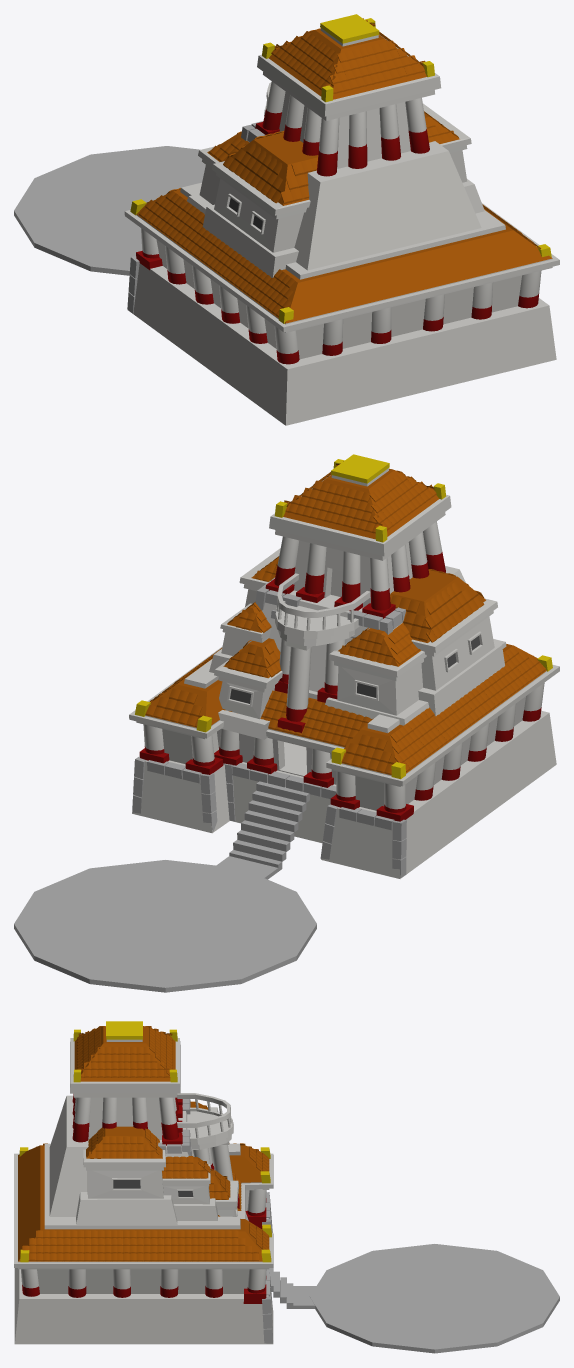
Rendered from SM_Kelloc_HQ 1.fbx.
The picture shows the model from 3 angles, top to bottom: view 1: azimuth 30°, elevation 25°; view 2: azimuth 150°, elevation 25°; view 3: azimuth 270°, elevation 25°; orthographic projection. The views are drawn at different scales.
Parts seen in each view (by area): view 1: pCube2, pCube1, pCylinder44, Object (×3), pCube4, pCylinder41, group13, pCube43, pCylinder51, pCylinder50, pCube40, pCylinder47 (+3 smaller); view 2: pCylinder44, pCube2, Object (×9), pCube1, pCube4, pCylinder41, pCube40, pCube41, group13, pCylinder45, pCylinder42, pCube11 (+7 smaller); view 3: pCube2, pCylinder44, Object (×6), pCube1, pCube43, pCylinder41, pCube42, pCube11, pCylinder54, pCylinder53, pCylinder42, pCube41 (+5 smaller).
Part boxes in pixels (left/top/right/bottom): pCube2: left=124, top=183, right=559, bottom=425; pCube1: left=246, top=14, right=481, bottom=270; pCylinder44: left=14, top=146, right=205, bottom=275; Object (×3): left=139, top=31, right=425, bottom=317; pCube4: left=202, top=132, right=318, bottom=277; pCylinder41: left=262, top=81, right=429, bottom=176; group13: left=223, top=131, right=317, bottom=203; pCube43: left=423, top=103, right=484, bottom=213; pCylinder51: left=423, top=282, right=493, bottom=331; pCylinder50: left=322, top=307, right=391, bottom=355; pCube40: left=187, top=131, right=249, bottom=214; pCylinder47: left=165, top=246, right=213, bottom=304; pCylinder44: left=14, top=860, right=316, bottom=992; pCube2: left=129, top=639, right=559, bottom=878; Object (×9): left=145, top=471, right=545, bottom=774; pCube1: left=262, top=454, right=465, bottom=691; pCube4: left=390, top=570, right=504, bottom=716; pCylinder41: left=274, top=521, right=445, bottom=610; pCube40: left=325, top=623, right=429, bottom=725; pCube41: left=214, top=638, right=282, bottom=739; group13: left=390, top=569, right=484, bottom=642; pCylinder45: left=143, top=724, right=331, bottom=779; pCylinder42: left=279, top=638, right=345, bottom=721; pCube11: left=275, top=601, right=359, bottom=645; pCube2: left=14, top=1143, right=273, bottom=1344; pCylinder44: left=310, top=1244, right=559, bottom=1353; Object (×6): left=22, top=1026, right=258, bottom=1261; pCube1: left=49, top=1021, right=194, bottom=1216; pCube43: left=76, top=1126, right=177, bottom=1224; pCylinder41: left=72, top=1094, right=178, bottom=1142; pCube42: left=162, top=1157, right=218, bottom=1220; pCube11: left=187, top=1107, right=233, bottom=1149; pCylinder54: left=160, top=1269, right=222, bottom=1297; pCylinder53: left=68, top=1269, right=130, bottom=1297; pCylinder42: left=193, top=1145, right=233, bottom=1180; pCube41: left=210, top=1170, right=248, bottom=1220.
Bounding box in the file's own units: 3501 × 3983 × 7325.
